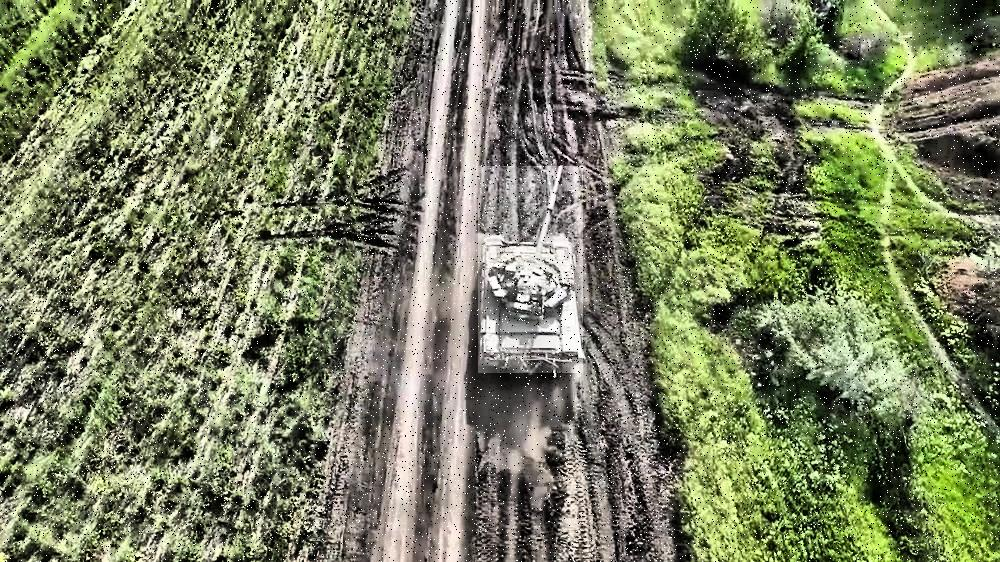military-vehicle: (479, 166, 584, 373)
